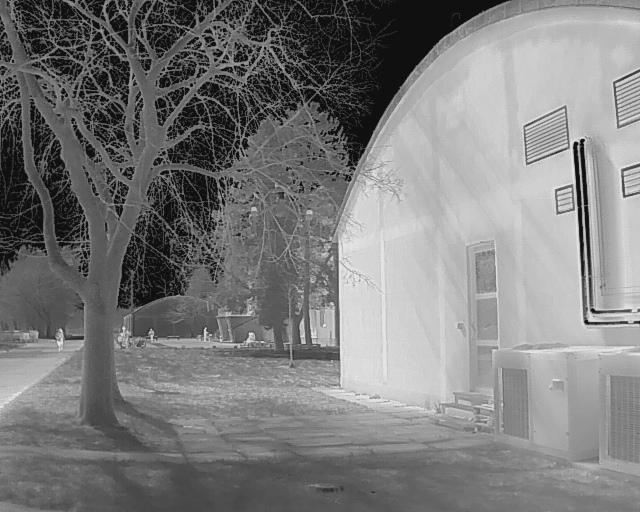drone: (233, 188, 313, 240)
